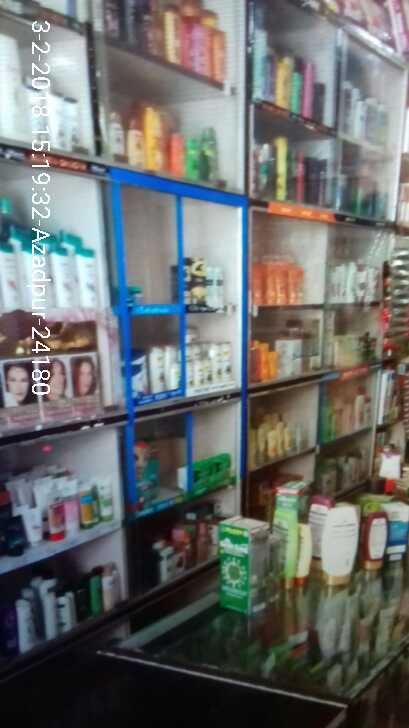vicks: (125, 281, 149, 304)
